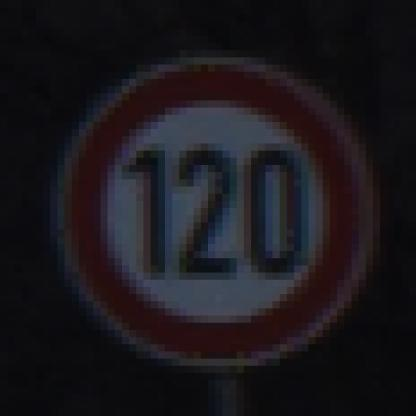Speed Limit 120: (70, 65, 359, 358)
